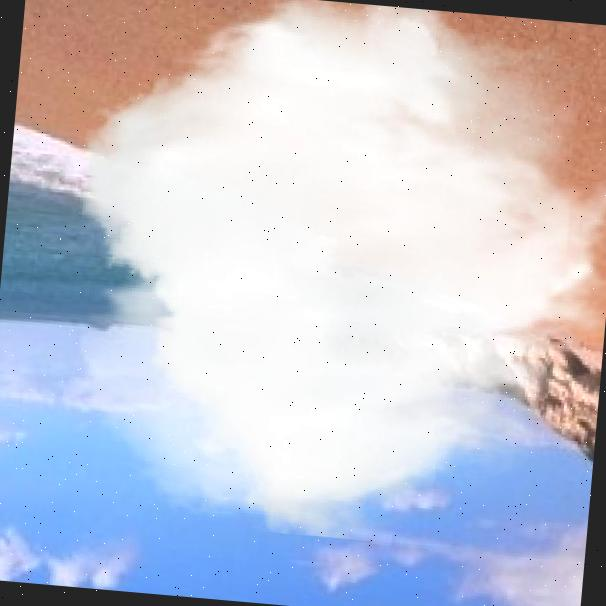smoke: (53, 0, 606, 560)
